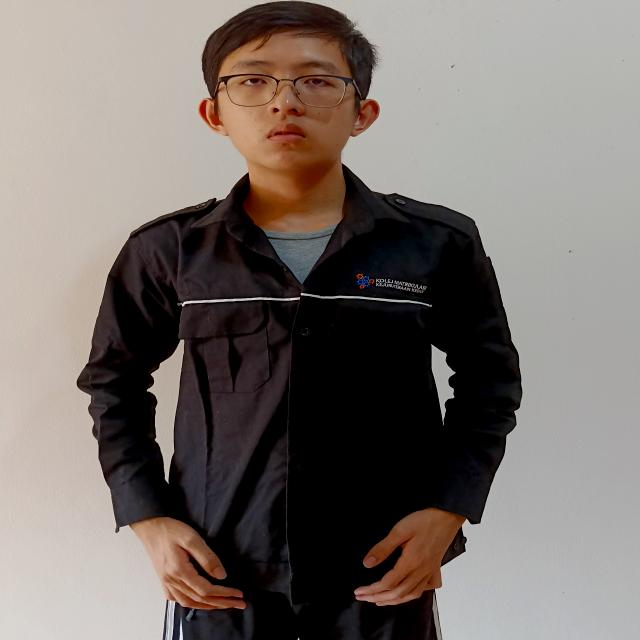person_with_labcoat: (79, 1, 521, 640)
